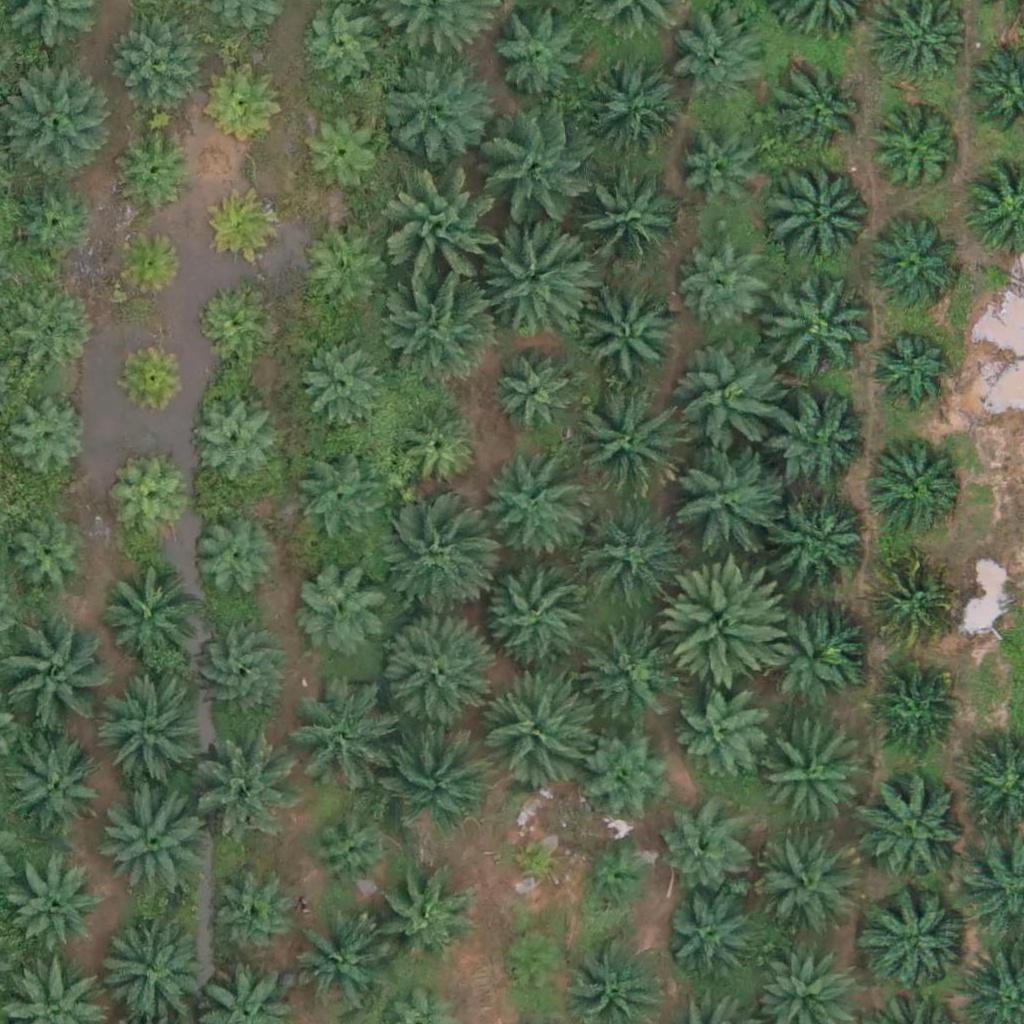Kelapa_Sawit: (665, 561, 790, 687), (667, 439, 780, 553), (91, 782, 204, 896), (568, 168, 681, 282), (857, 771, 970, 884), (861, 882, 974, 995), (569, 387, 682, 500), (573, 499, 686, 612), (480, 554, 593, 667), (377, 615, 490, 728), (761, 270, 874, 383), (485, 114, 598, 227), (384, 272, 497, 385), (674, 345, 787, 458), (377, 717, 489, 831), (94, 678, 206, 792), (767, 155, 879, 269), (390, 176, 502, 290), (473, 455, 585, 568), (478, 672, 590, 785), (375, 506, 487, 619), (188, 723, 300, 836), (480, 219, 592, 332), (377, 50, 489, 163), (867, 432, 967, 533), (774, 491, 874, 592), (760, 728, 860, 829), (755, 840, 855, 941), (577, 620, 677, 721), (579, 721, 679, 822), (371, 869, 471, 970), (285, 918, 385, 1019), (285, 690, 385, 791), (98, 566, 198, 667), (1, 734, 101, 835), (580, 284, 680, 385), (769, 398, 869, 498), (759, 598, 859, 698), (292, 556, 392, 656), (190, 624, 290, 724), (864, 218, 964, 318), (773, 62, 873, 162), (674, 6, 774, 106), (581, 62, 681, 162), (866, 556, 954, 644), (659, 808, 747, 896), (392, 405, 480, 493), (306, 807, 394, 895), (187, 398, 275, 486), (13, 867, 101, 955), (9, 178, 97, 266), (9, 296, 97, 384), (873, 112, 961, 200), (865, 325, 953, 413), (492, 350, 580, 438), (295, 106, 383, 194), (300, 229, 388, 317), (662, 895, 749, 984), (292, 455, 379, 544), (869, 664, 956, 752), (677, 688, 764, 776), (189, 514, 276, 602), (211, 876, 298, 964), (5, 394, 92, 482), (2, 518, 89, 606), (678, 139, 765, 227), (683, 244, 770, 332), (298, 4, 385, 92), (299, 338, 386, 426), (113, 14, 200, 102), (194, 284, 269, 360), (578, 841, 653, 917), (497, 928, 572, 1004), (111, 464, 186, 540), (116, 337, 191, 413), (209, 188, 284, 264), (119, 130, 194, 205), (111, 227, 186, 302), (209, 66, 284, 141), (504, 829, 566, 892)
